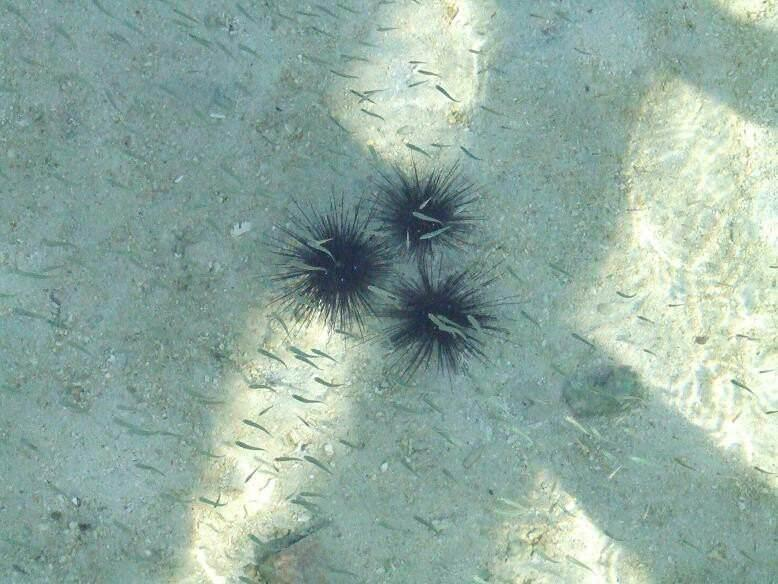urchin: (374, 259, 506, 382), (269, 198, 392, 321), (367, 158, 485, 258)
